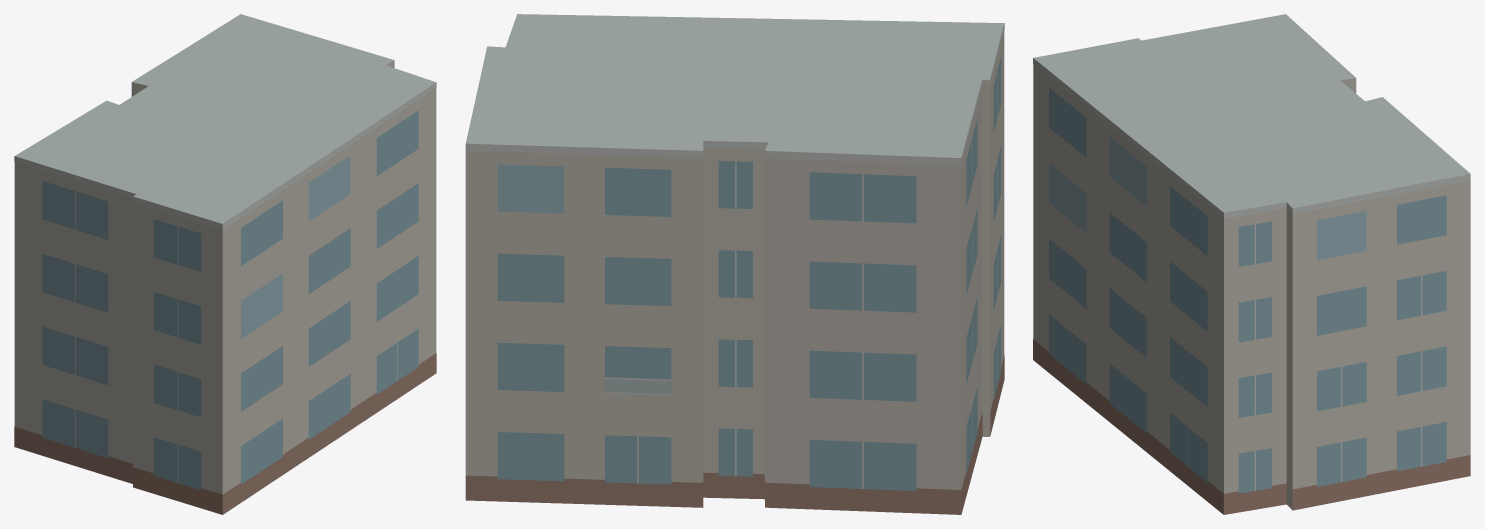
File: survey-upis-32745153.glb
The picture shows the model from 3 angles, left to right: view 1: azimuth 30°, elevation 25°; view 2: azimuth 150°, elevation 25°; view 3: azimuth 270°, elevation 25°; orthographic projection. The views are drawn at different scales.
Parts seen in each view (by area): view 1: survey-upis-32745153.tmp; view 2: survey-upis-32745153.tmp; view 3: survey-upis-32745153.tmp.
Part boxes in pixels (x1,y1,x2,y2): survey-upis-32745153.tmp: (14, 14, 436, 514); survey-upis-32745153.tmp: (465, 14, 1004, 514); survey-upis-32745153.tmp: (1033, 14, 1470, 514).
Bounding box in the file's own units: 16.65 × 11.8 × 15.49.
